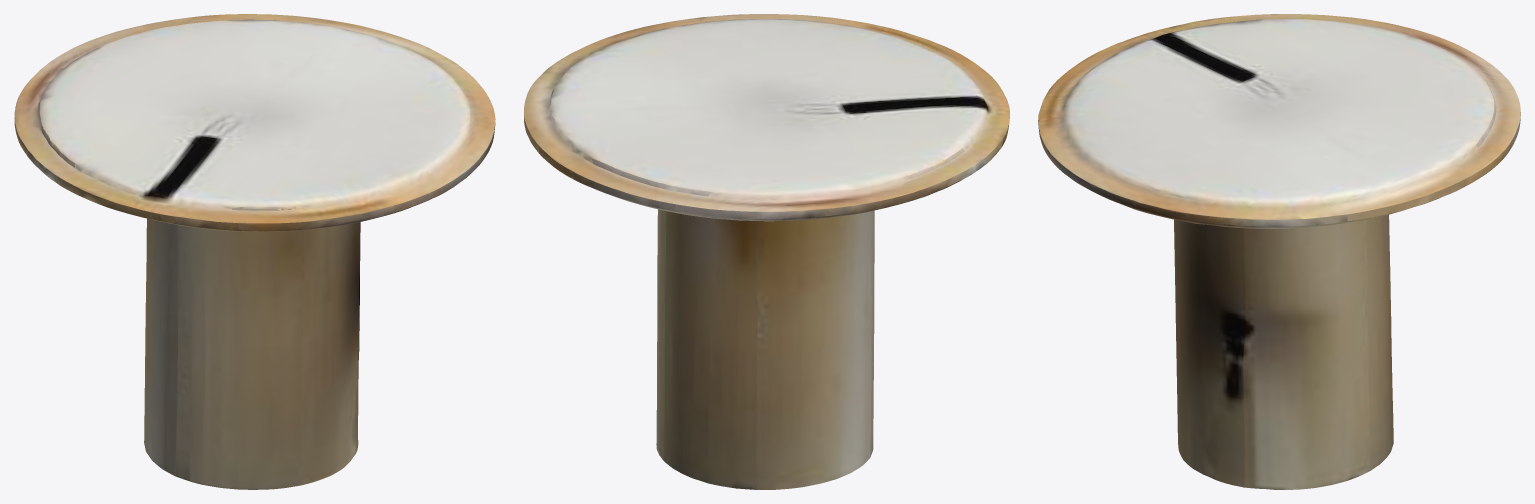
The picture shows the model from 3 angles, left to right: view 1: azimuth 30°, elevation 25°; view 2: azimuth 150°, elevation 25°; view 3: azimuth 270°, elevation 25°; orthographic projection.
Parts seen in each view (by area): view 1: world; view 2: world; view 3: world.
Part boxes in pixels (box(x1,y1,x2,y2)): world: box(14, 14, 495, 489); world: box(524, 14, 1009, 489); world: box(1038, 14, 1520, 489).
Size of the model in its own units: 1.46 by 1.14 by 1.46.
Materials: 1 (1 with a texture image).
